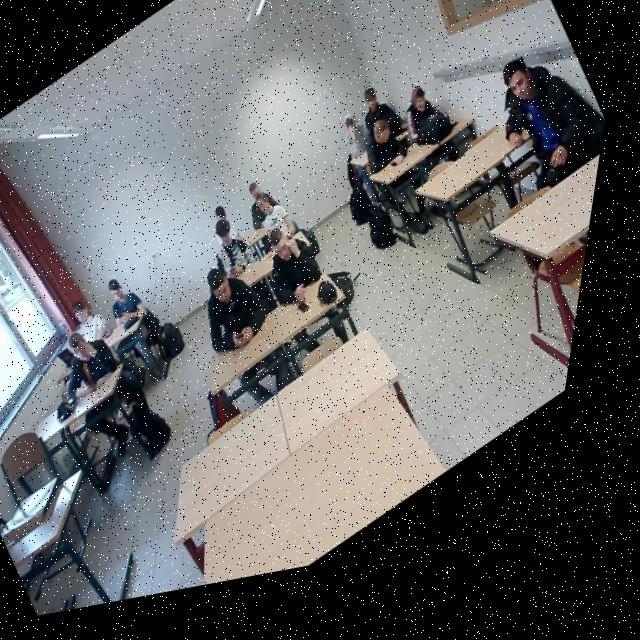phone_use: (210, 304, 304, 390), (211, 207, 270, 284), (108, 278, 158, 336)
